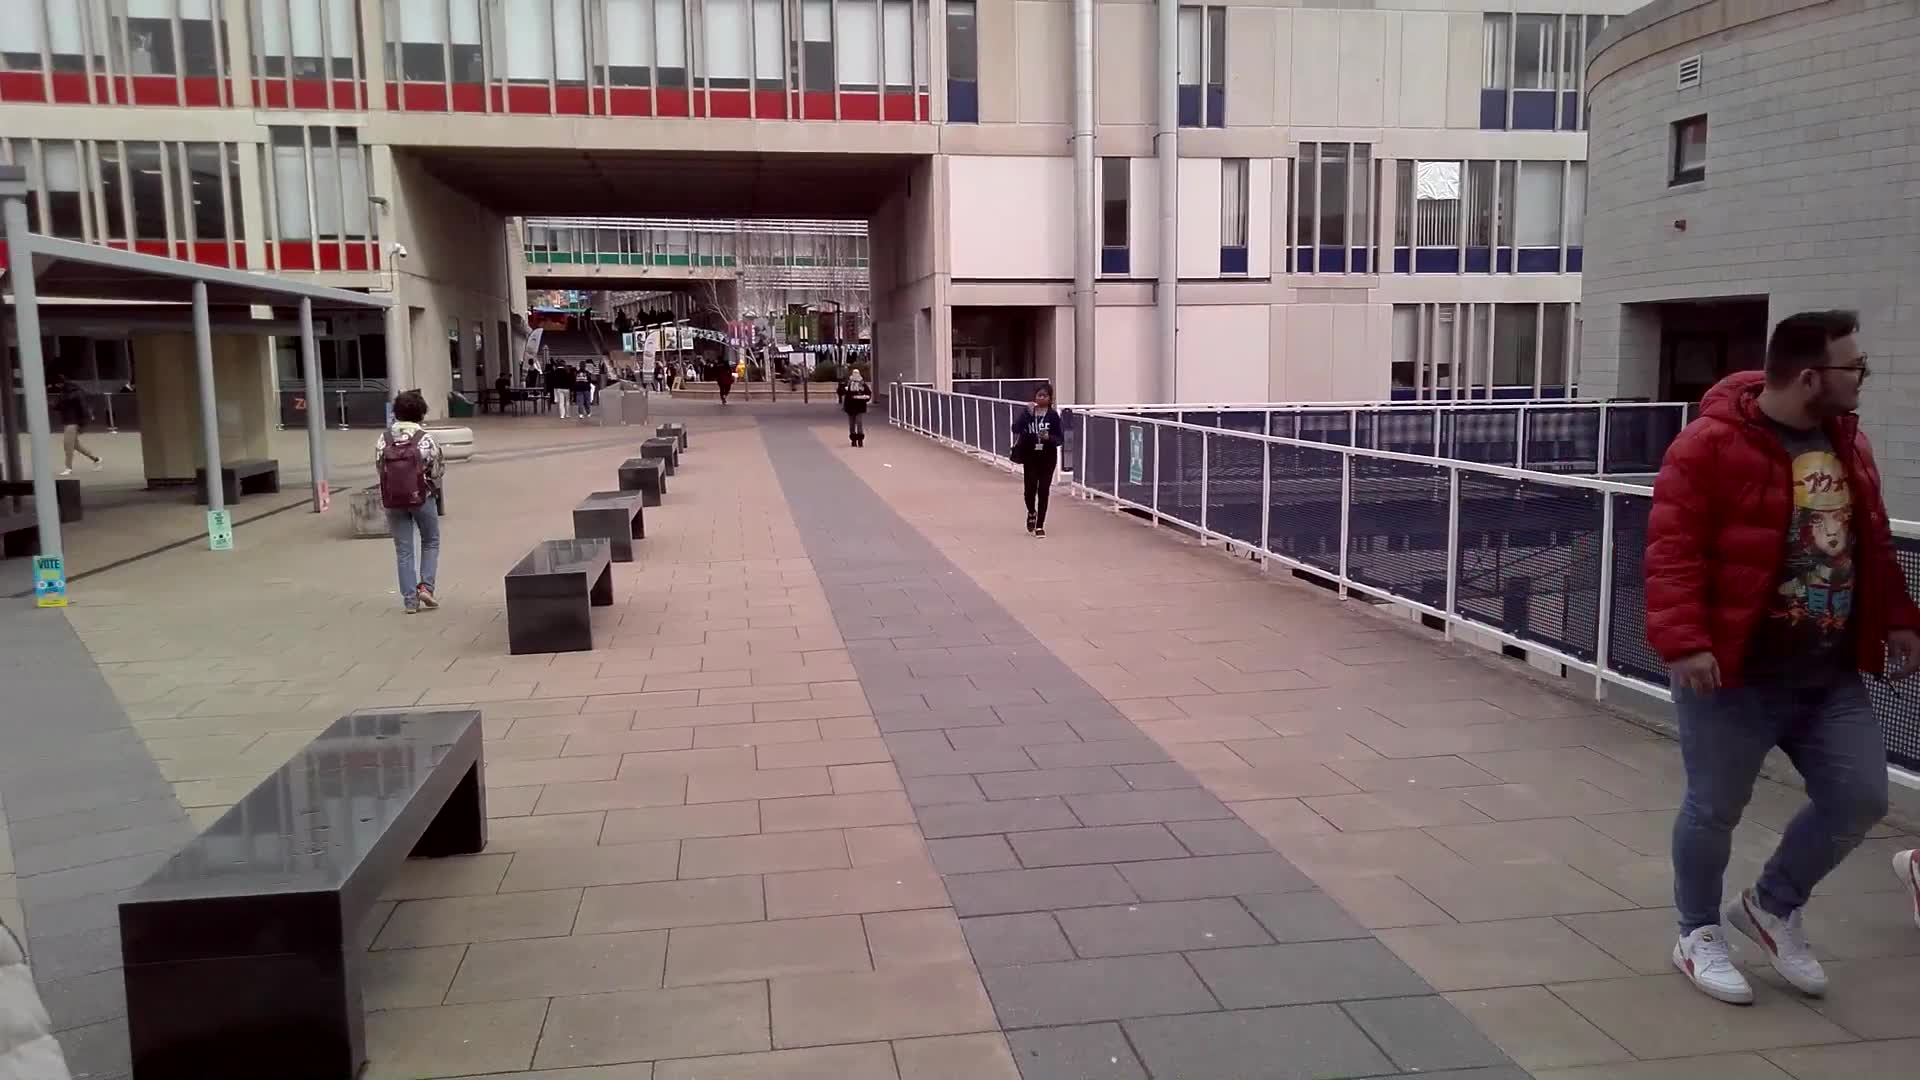Backpack: (373, 435, 437, 515)
Bench: (128, 713, 521, 1080), (510, 539, 626, 653), (577, 490, 646, 557), (622, 454, 672, 502)
Person: (1674, 303, 1890, 1021), (389, 387, 448, 611), (1009, 382, 1078, 547), (838, 355, 877, 455)
